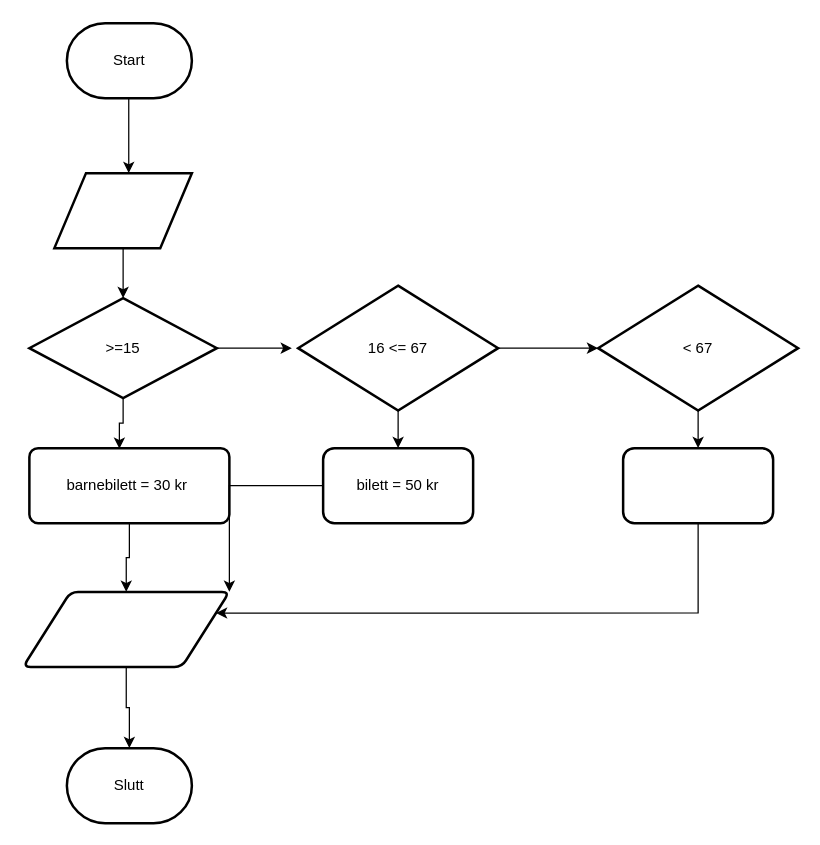
The diagram is 820 pixels wide and 845 high, and some of its shapes have lost their labels. Each missing label, with the centre of its shape:
"hent inn alder" goes at point 122,210.
"pansjonbilett = 35 kr" goes at point 697,485.
"Vis penger bilett" goes at point 125,629.
